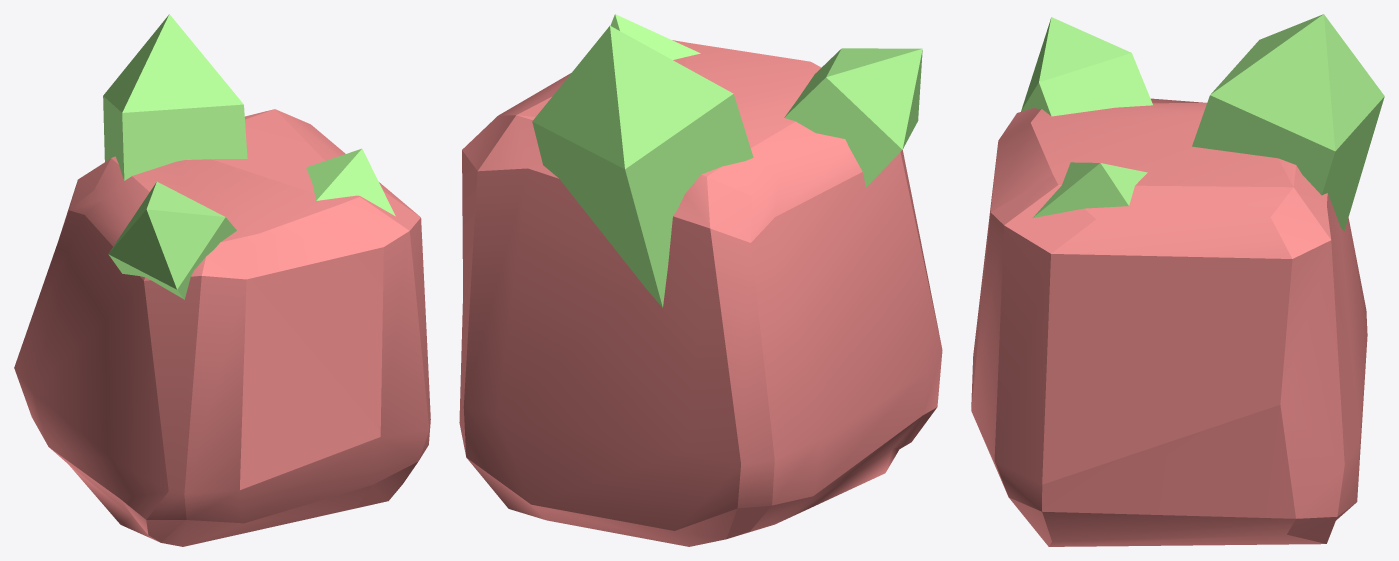
Rendered from m_blocCristaux1.FBX.
3 views of the same model, side by side, from view 1: azimuth 30°, elevation 25°; view 2: azimuth 150°, elevation 25°; view 3: azimuth 270°, elevation 25° (orthographic). The views are drawn at different scales.
Visible parts, largest first — view 1: m_blocCristaux; view 2: m_blocCristaux; view 3: m_blocCristaux.
Boxes of the visible parts, box(x1,y1,x2,y2) form: m_blocCristaux: box(14, 14, 430, 546); m_blocCristaux: box(459, 14, 942, 546); m_blocCristaux: box(971, 14, 1384, 546).
Size of the model in its own units: 34.47 by 46.59 by 36.01.
